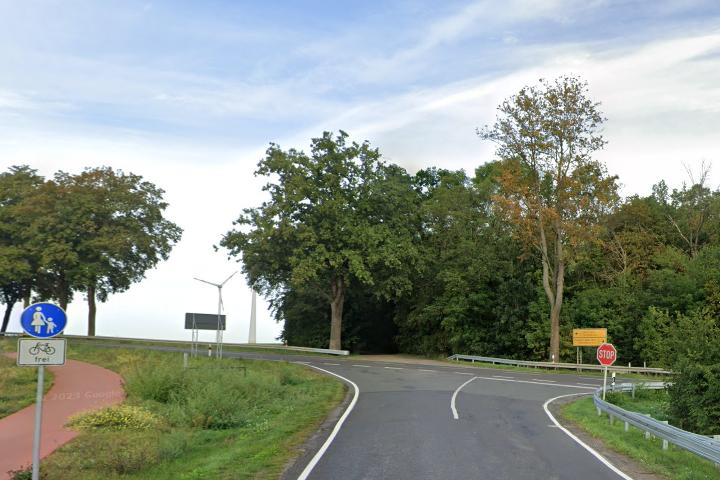traffic_sign: (19, 302, 68, 338), (596, 342, 617, 366)
